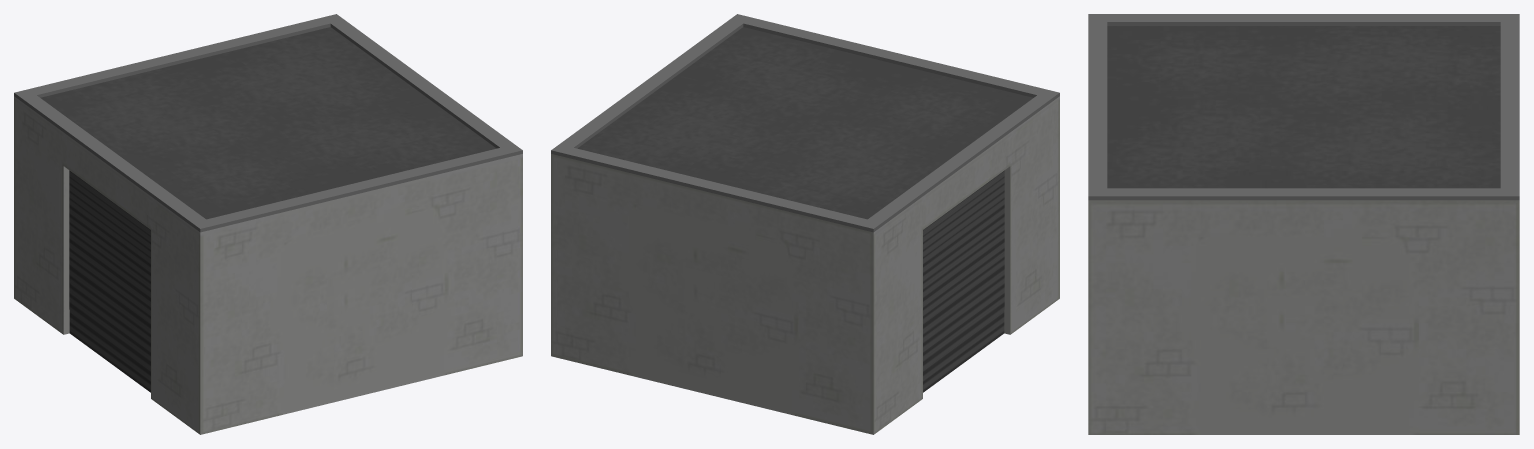
File: garage_bricks.FBX
3 renders of one model, left to right at view 1: azimuth 30°, elevation 25°; view 2: azimuth 150°, elevation 25°; view 3: azimuth 270°, elevation 25°, orthographic. The views are drawn at different scales.
Visible parts, largest first — view 1: Box001; view 2: Box001; view 3: Box001.
Boxes of the visible parts, left/top/right/bottom form: Box001: left=14, top=14, right=522, bottom=434; Box001: left=551, top=14, right=1059, bottom=434; Box001: left=1088, top=14, right=1519, bottom=434.
Size of the model in its own units: 197 by 120 by 197.
1 material, 1 textured.
